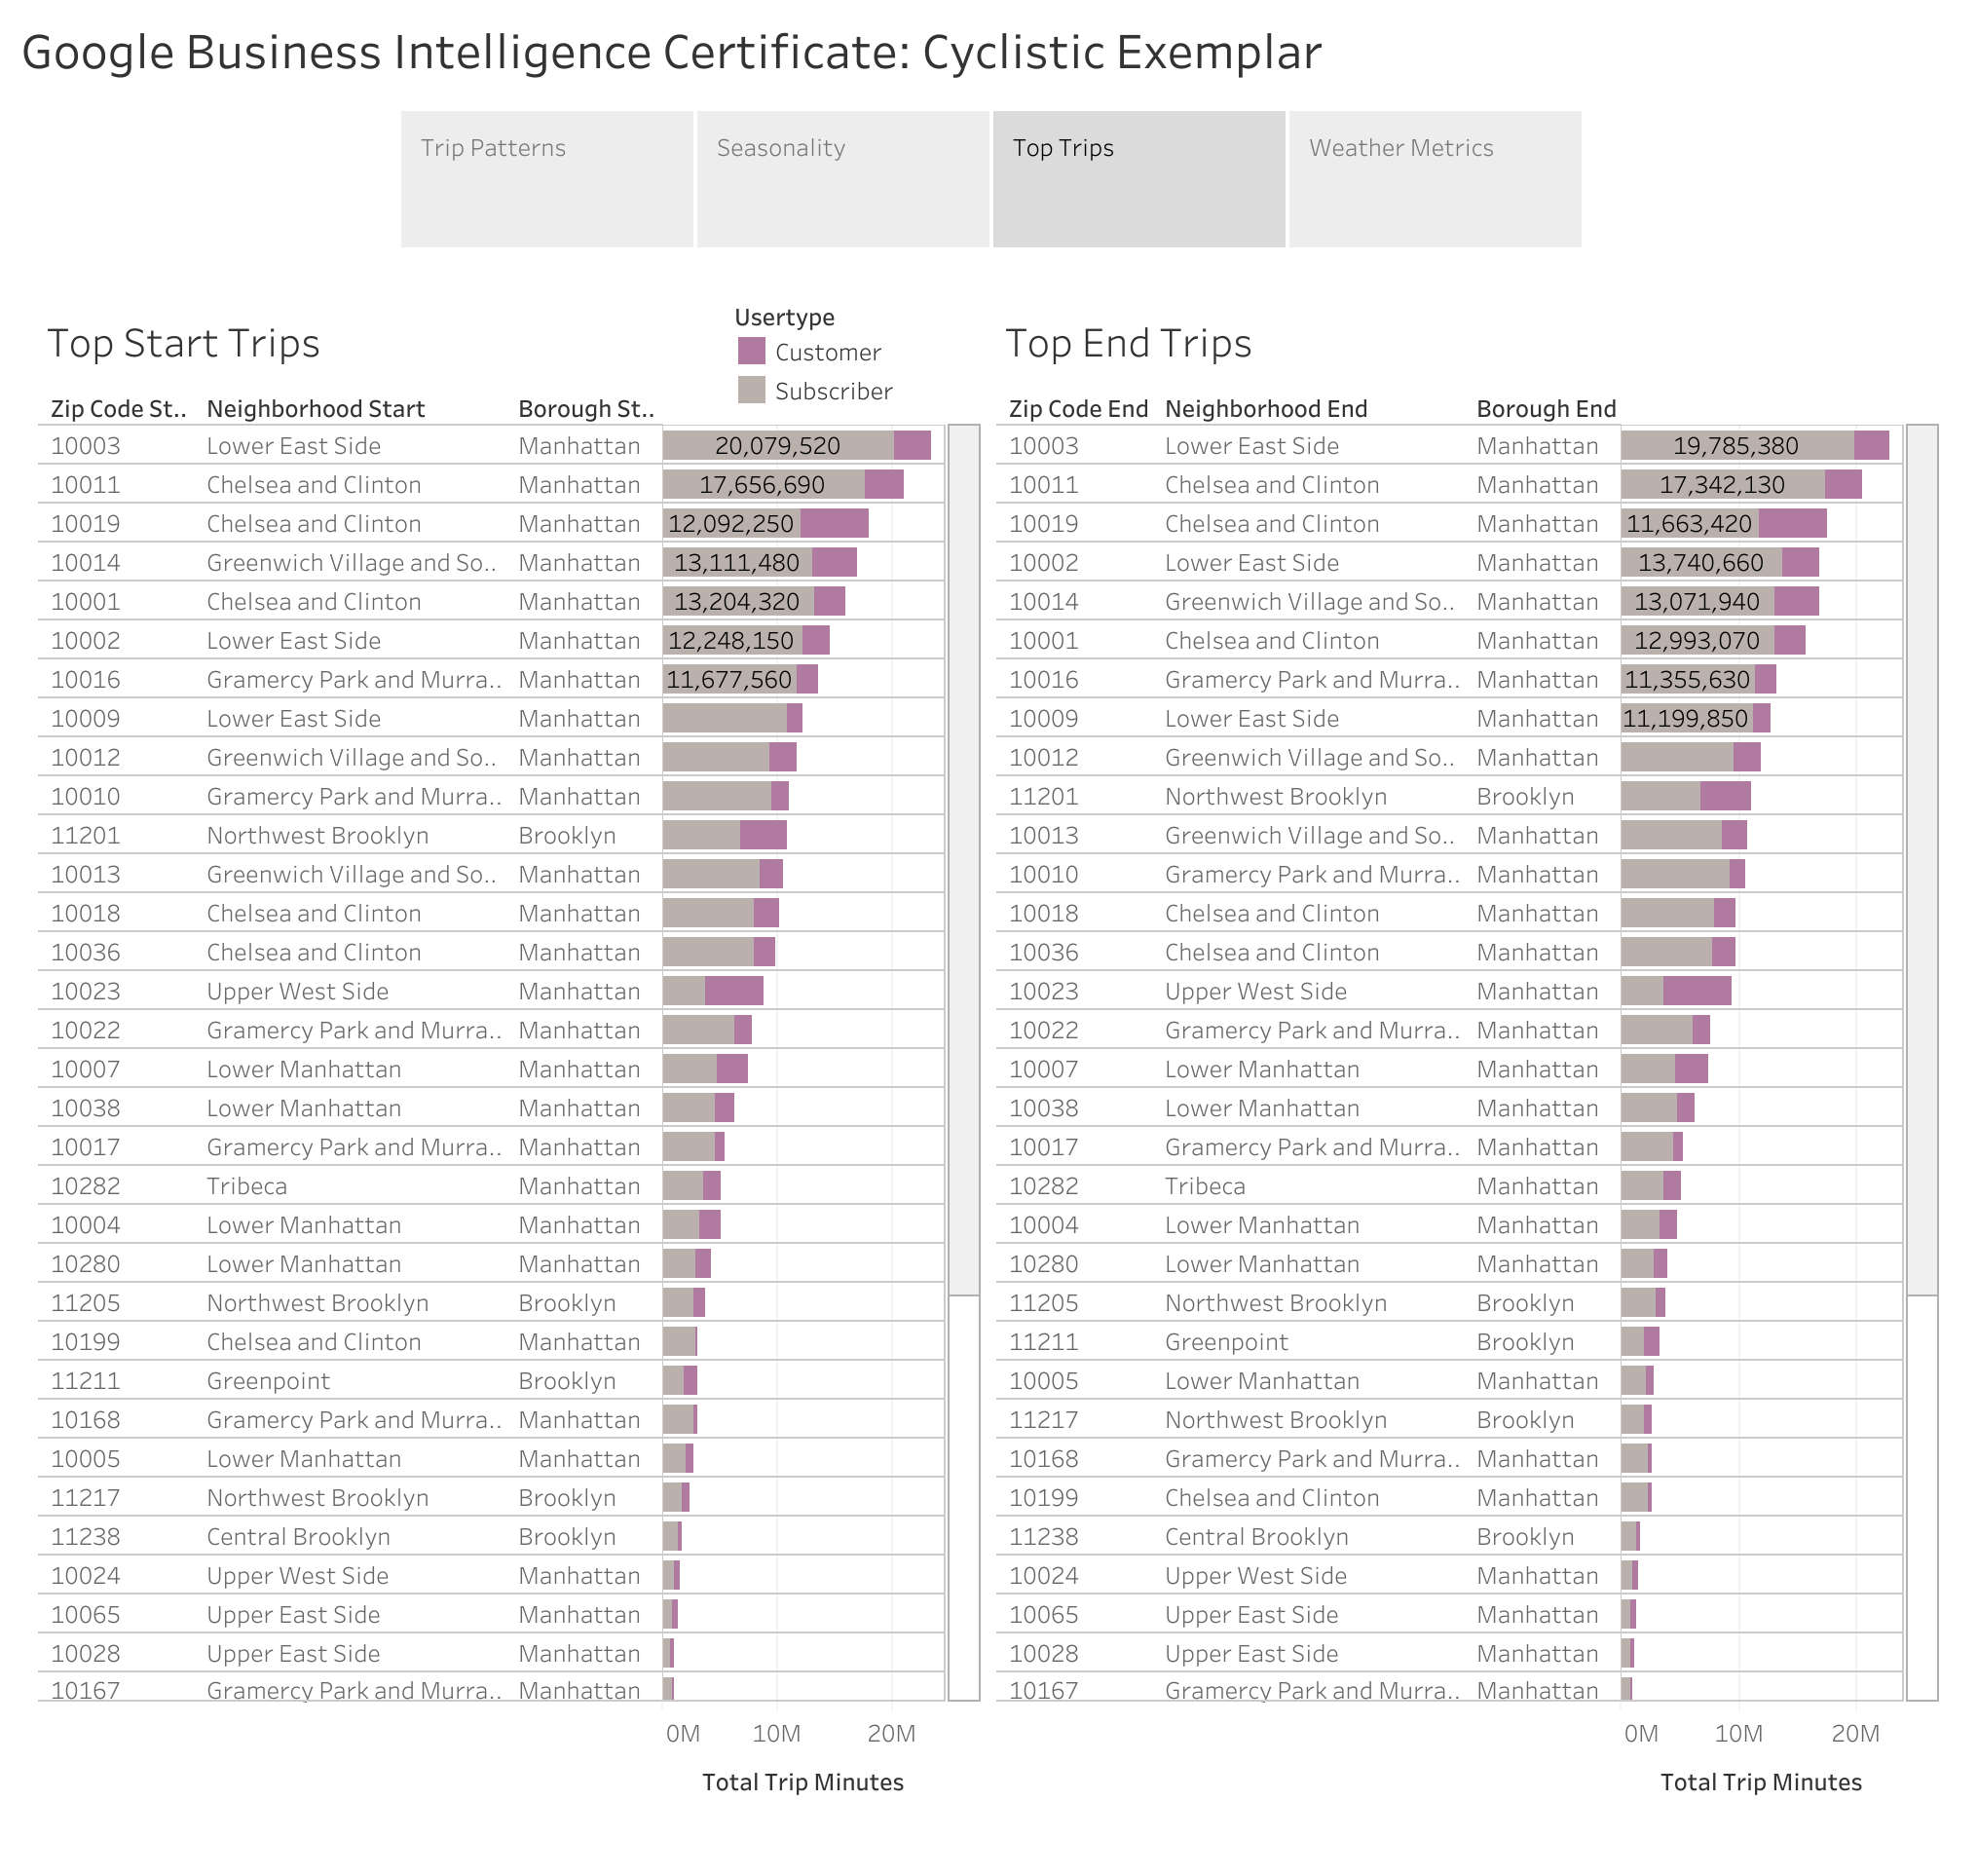

What the dashboard file says about the page in this screenshot:
{"tool":"tableau","page":{"name":"仪表板 3","canvas":[1000,800],"ordinal":2},"visuals":[{"type":"worksheet","title":"Top Start Trips","mark":"Automatic","rows":["zip_code_start","neighborhood_start","borough_start"],"cols":["Calculation_0001054231576624"],"box":[8,8,492,784]},{"type":"legend","title":"Top Start Trips","param":"[federated.0zyo89q1uqor3h10m2qwc033ux3r].[none:usertype:nk]","box":[368,8,152,59]},{"type":"worksheet","title":"Top End Trips","mark":"Automatic","rows":["zip_code_end","neighborhood_end","borough_end"],"cols":["Calculation_0001054231576624"],"box":[500,8,492,784]}]}

Visuals, with their boxes on the page's 1000x800 design canvas (x1, y1, x2, y2). These are canvas units, not pixel positions in the 1977x1876 screenshot, which may show the page scaled, cropped or inside an application window:
"Top Start Trips" worksheet: 8,8,500,792
"Top Start Trips" legend: 368,8,520,67
"Top End Trips" worksheet: 500,8,992,792
